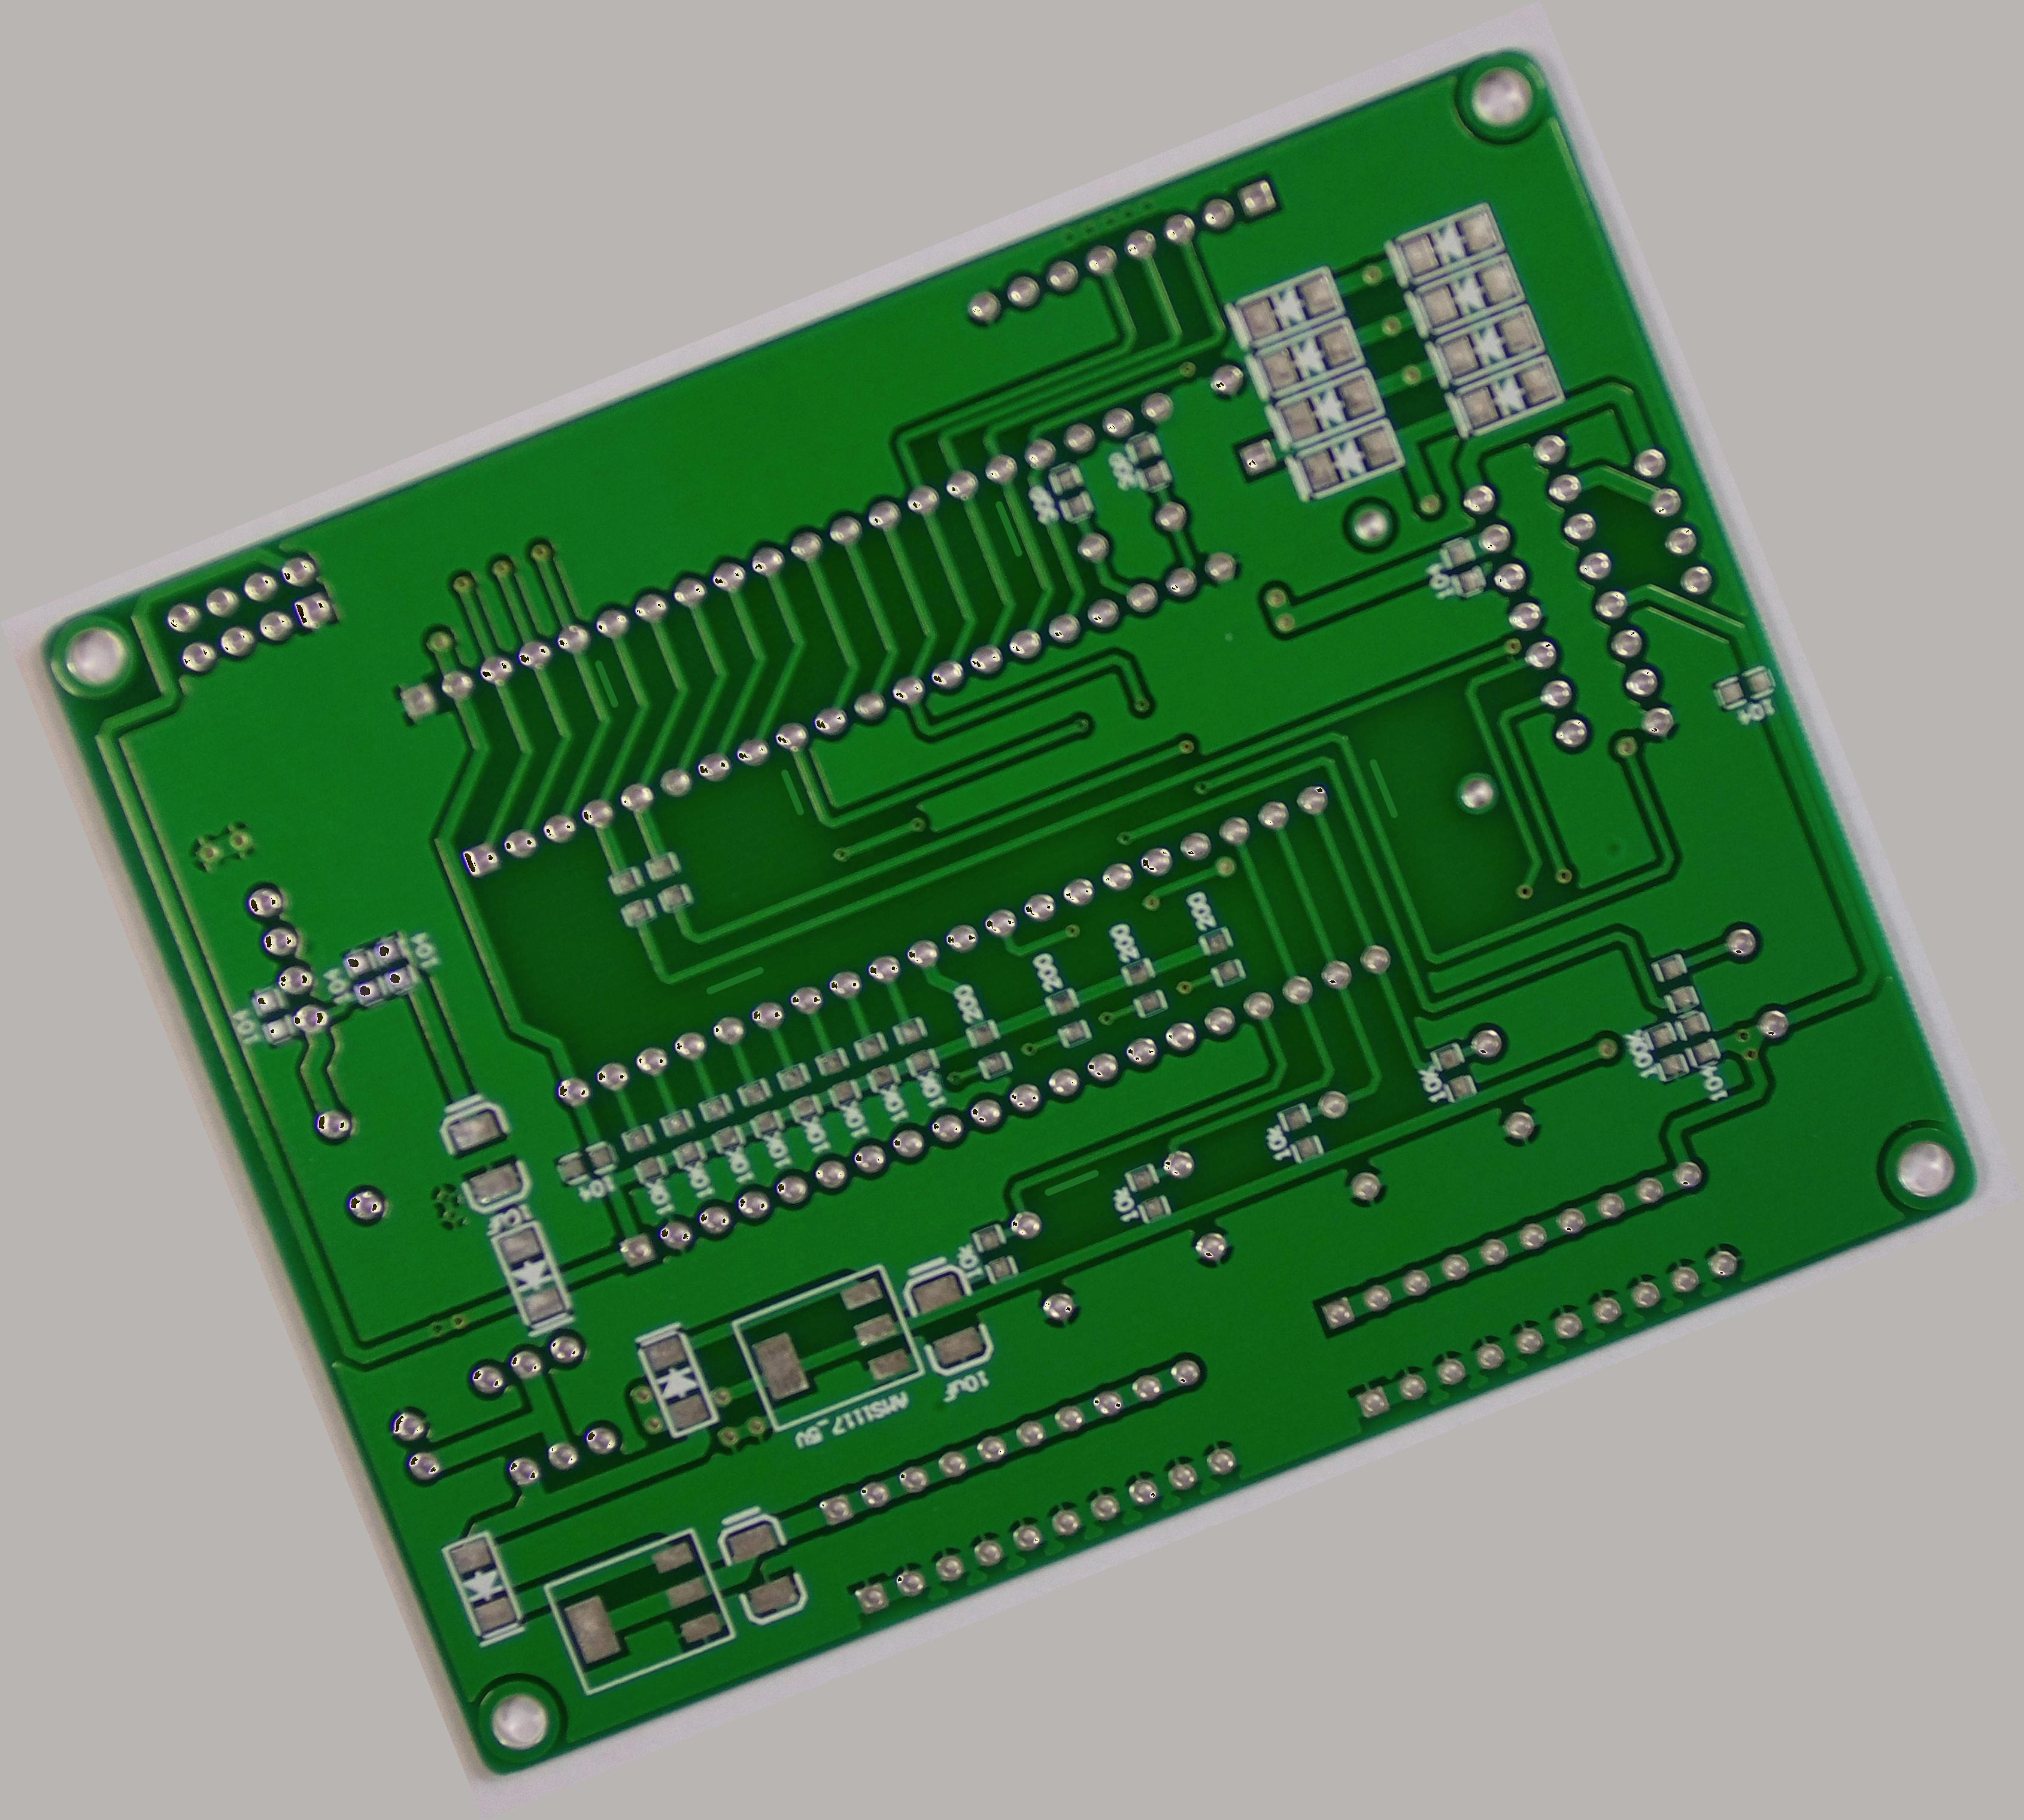spurious_copper: (692, 949, 773, 1010), (1031, 1154, 1109, 1210), (1356, 747, 1409, 827), (980, 488, 1033, 564), (763, 755, 817, 826), (583, 648, 632, 717)
